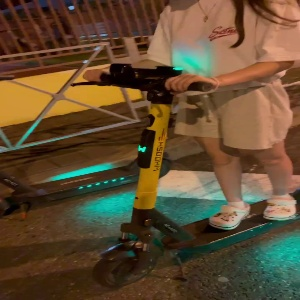human on a scooter: (71, 1, 300, 291)
